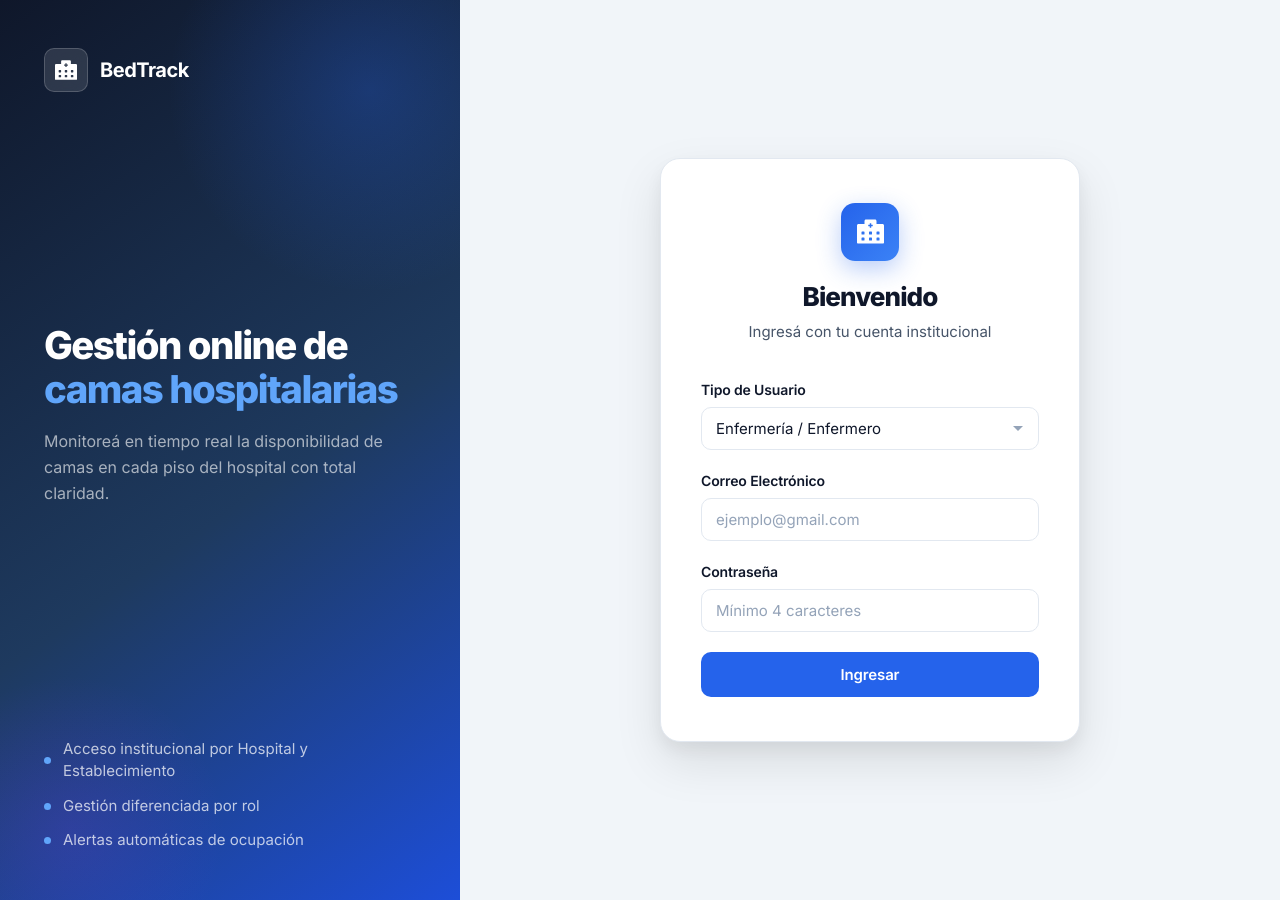
Test: Componente Login › Caso 4: valida que el email debe contener "@gmail.com"
Type "usuario@hotmail.com" into the field labelled "Correo Electrónico". click: point(870, 520)
box: [701,498,1039,541]
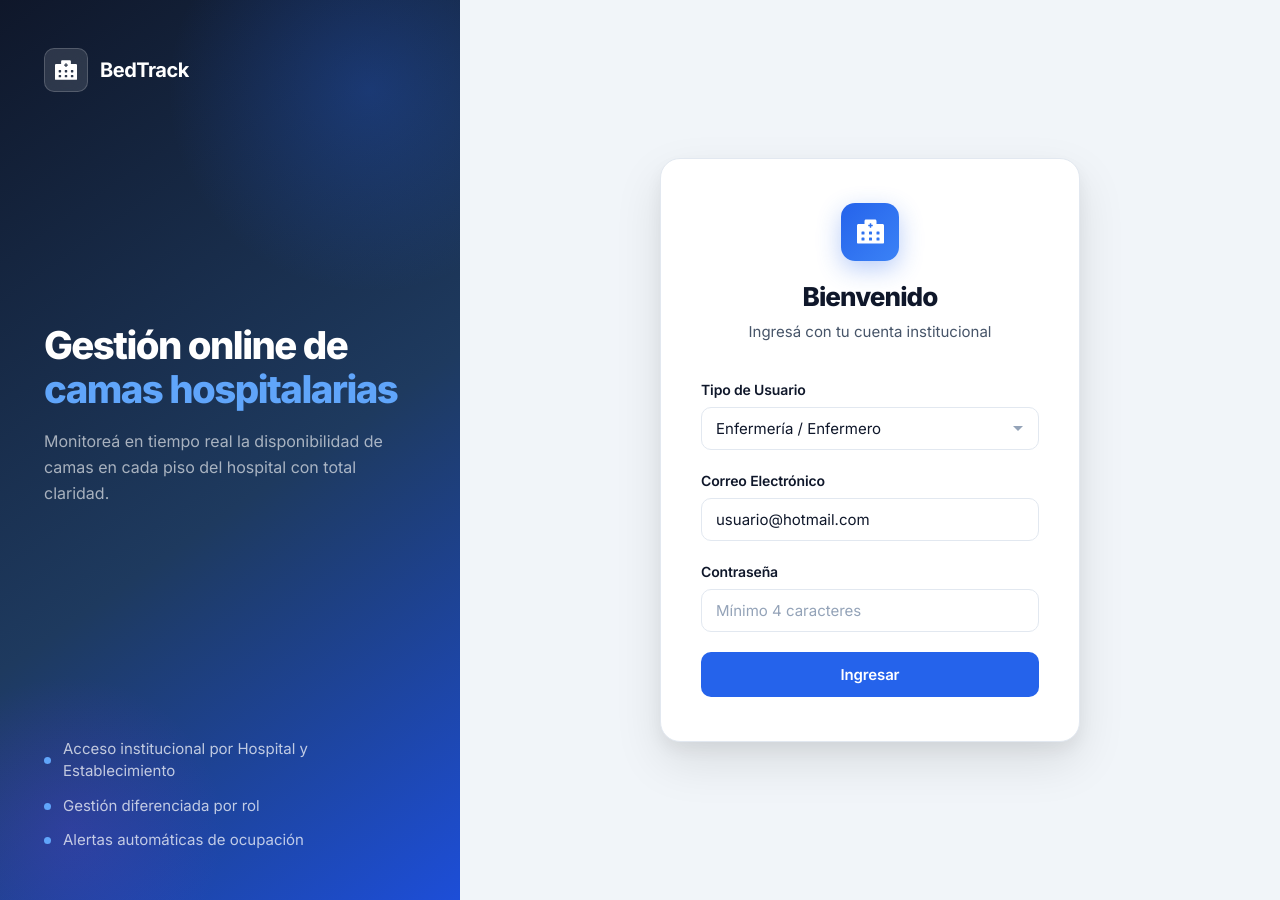
Type "12345" into the password field labelled "Contraseña". click: point(870, 611)
box: [701,589,1039,632]
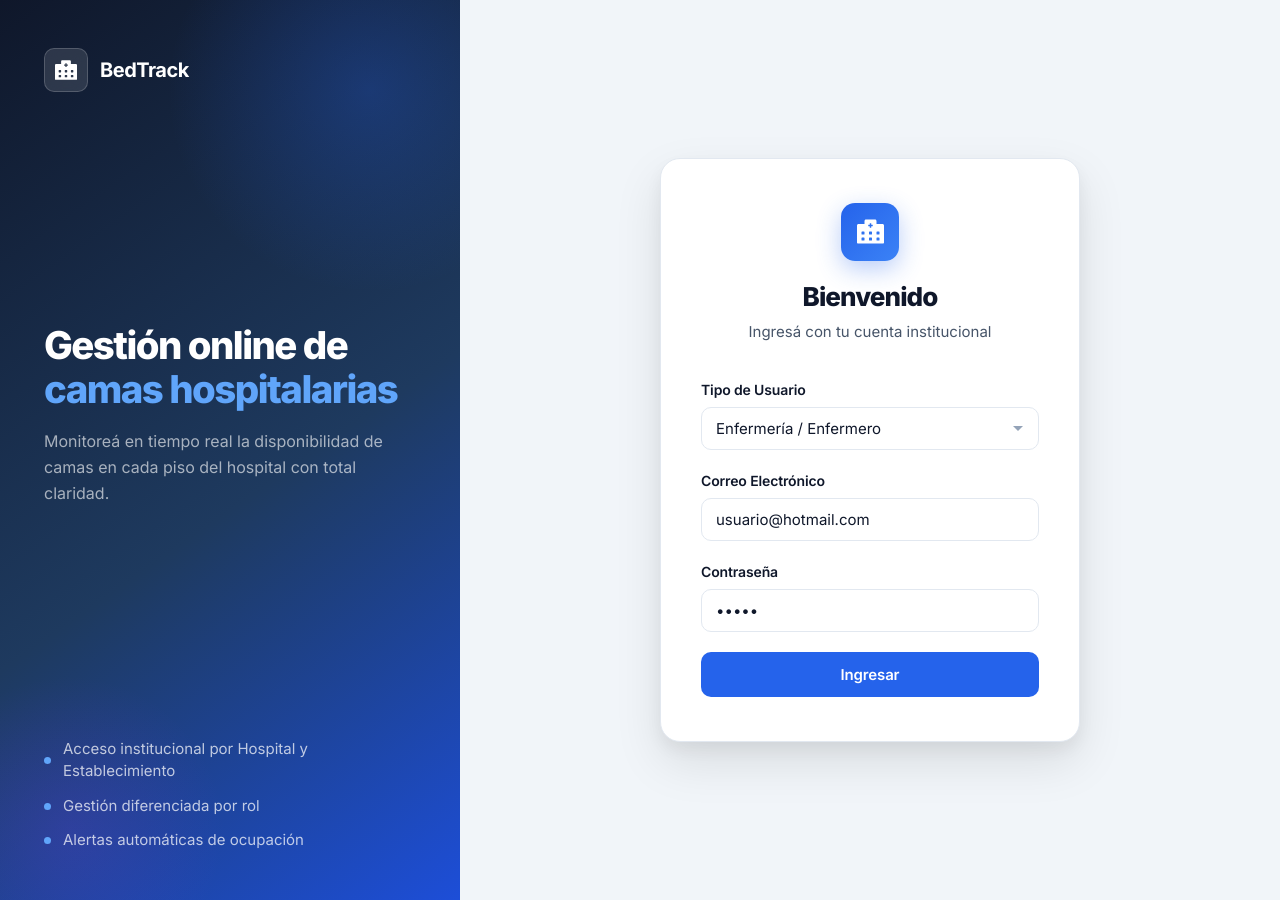
Click the button "Ingresar". click: point(870, 675)
box: [701,652,1039,697]
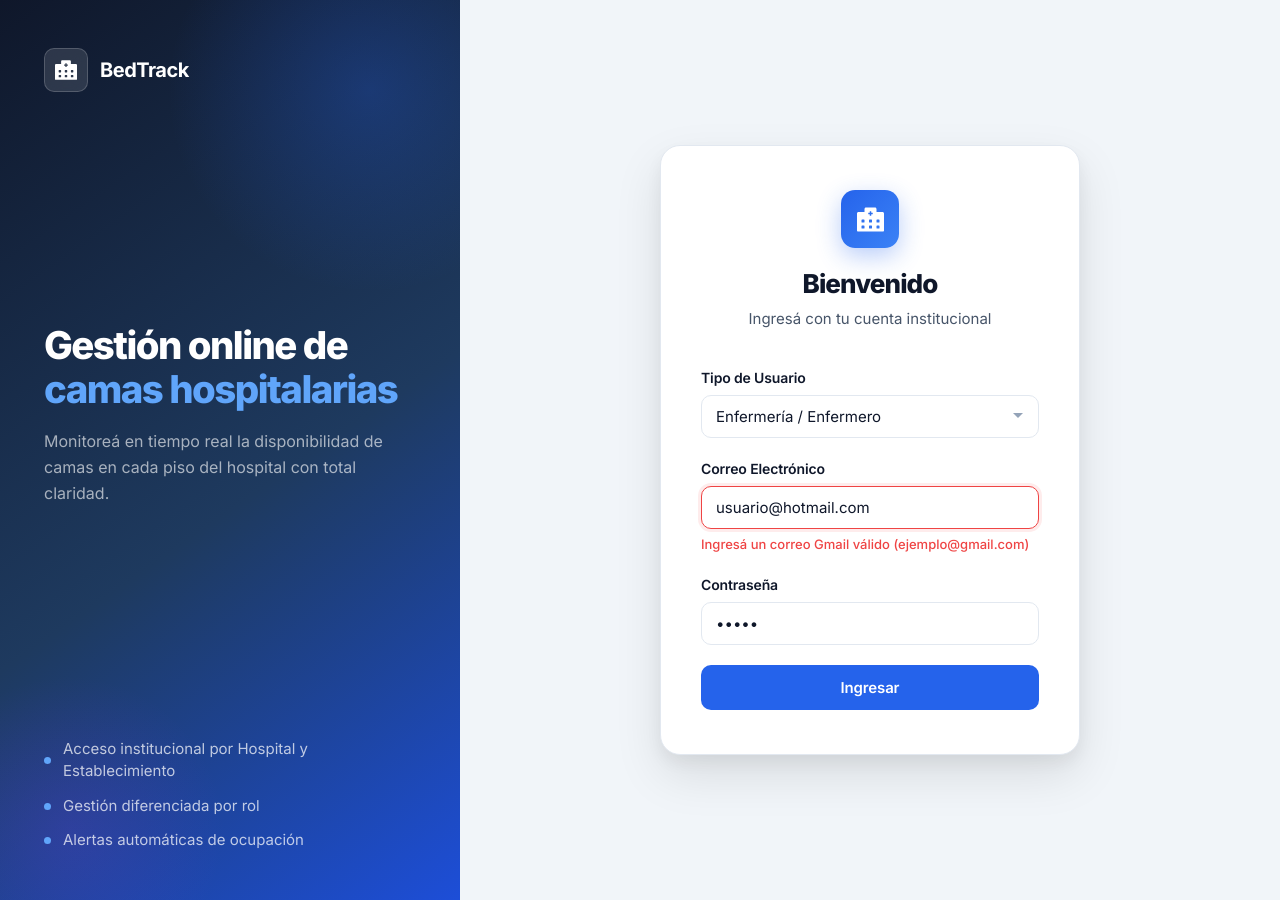
Check: the text "Ingresá un correo Gmail válido (ejemplo@gmail.com)" is shown, box [701,534,1039,554]
